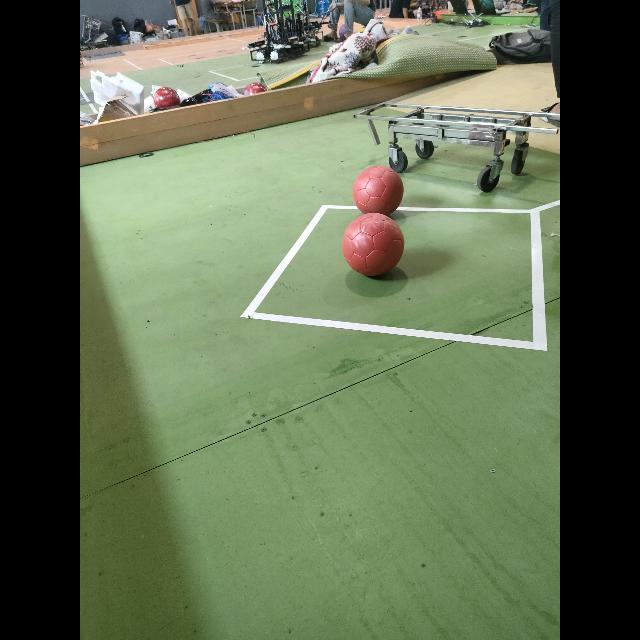R: (342, 212, 403, 276), (353, 166, 403, 214)
